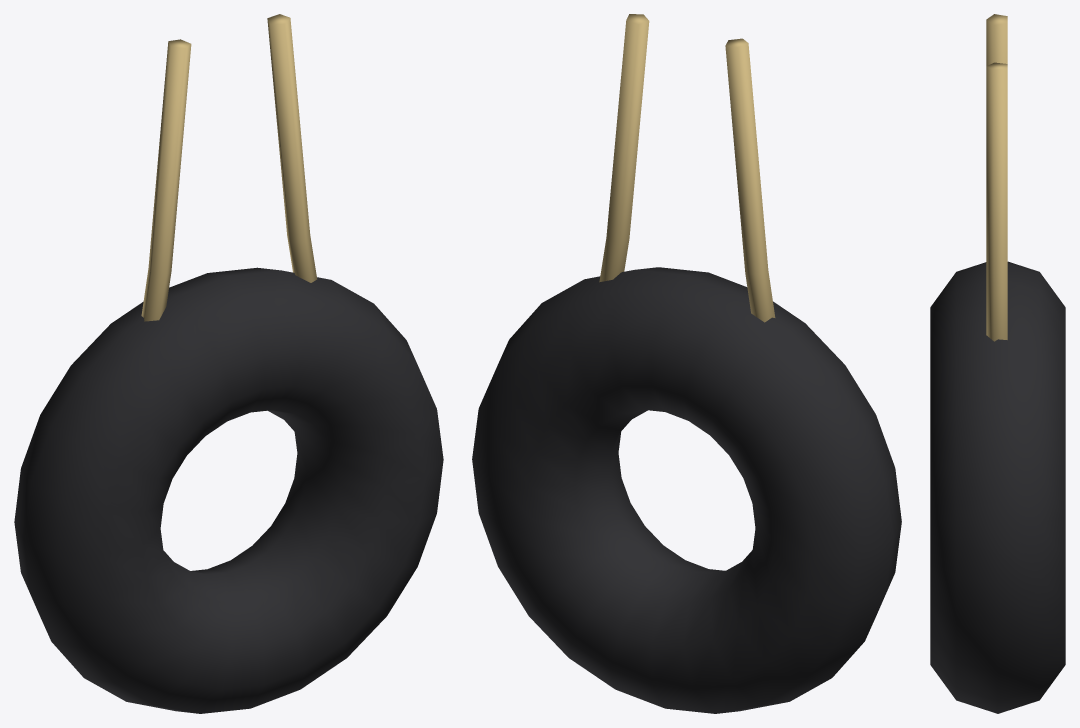
File: dock_fender.glb
3 renders of one model, left to right at view 1: azimuth 30°, elevation 25°; view 2: azimuth 150°, elevation 25°; view 3: azimuth 270°, elevation 25°, orthographic. The views are drawn at different scales.
Visible parts, largest first — view 1: Dock_Fender_Tire, Dock_Fender_Rope; view 2: Dock_Fender_Tire, Dock_Fender_Rope; view 3: Dock_Fender_Tire, Dock_Fender_Rope.
Boxes of the visible parts, box(x1,y1,x2,y2) form: Dock_Fender_Tire: box(14, 267, 443, 713); Dock_Fender_Rope: box(141, 14, 317, 321); Dock_Fender_Tire: box(472, 267, 901, 713); Dock_Fender_Rope: box(599, 14, 775, 322); Dock_Fender_Tire: box(930, 261, 1065, 713); Dock_Fender_Rope: box(986, 14, 1007, 341).
Size of the model in its own units: 0.58 by 0.9113 by 0.1712.
